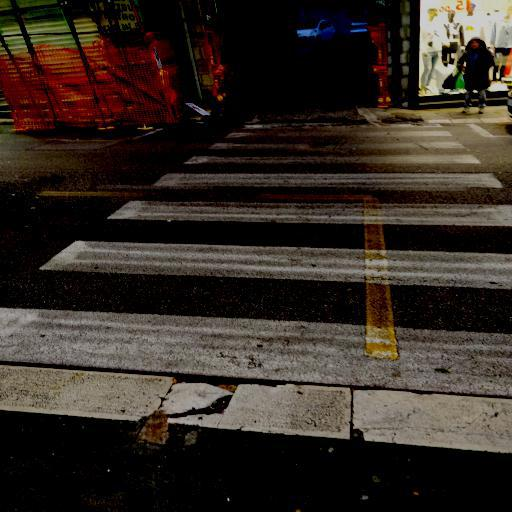crosswalk: (98, 166, 511, 237)
